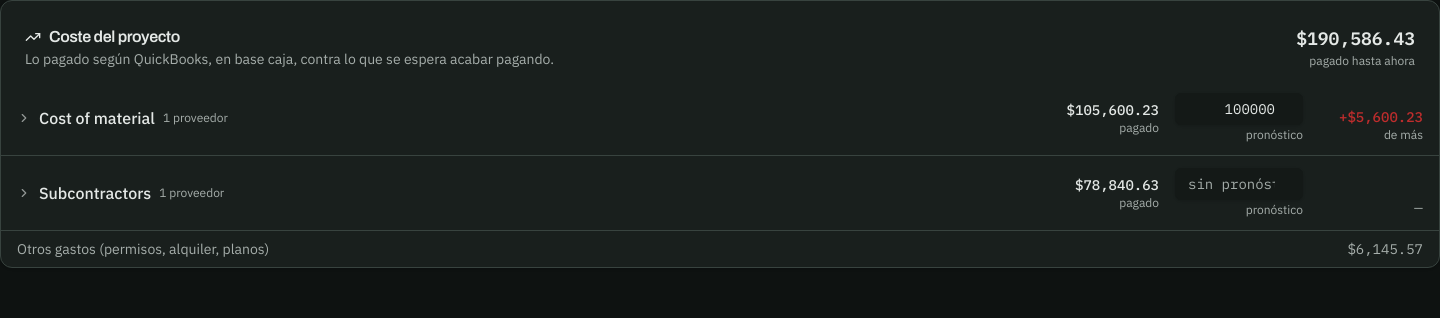
Test: ProjectCostBreakdownCard › opens the vendor breakdown of a category
The width and height of the screenshot is (1440, 318).
Expected: the text "MARC ANTHONYS PLUMBING SERVICES LLC" is not shown
Click the button "Subcontractors 1 proveedor".
click(95, 193)  # box [17,181,1059,205]
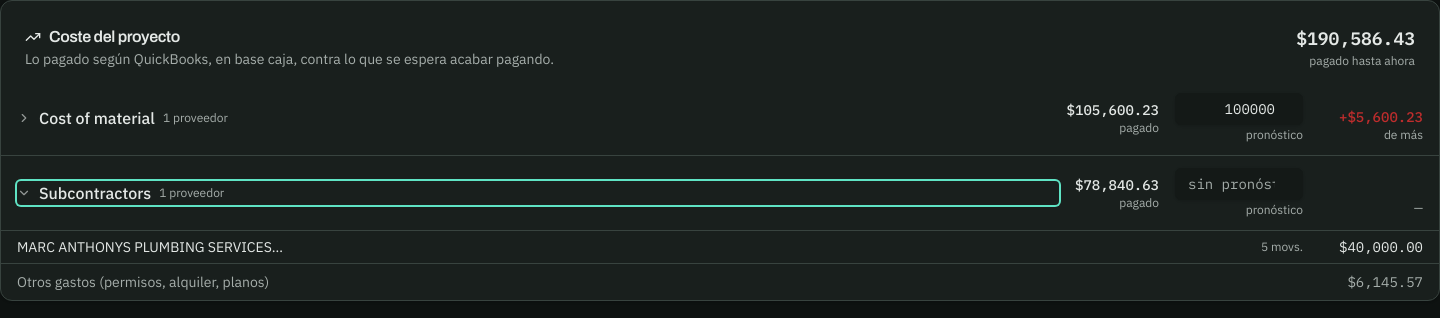
Expected: the text "MARC ANTHONYS PLUMBING SERVICES LLC" is shown, [17,237,286,257]
Expected: the text "$40,000.00" is shown, [1311,231,1439,263]
Expected: the text "5 movs." is shown, [1215,231,1311,263]
